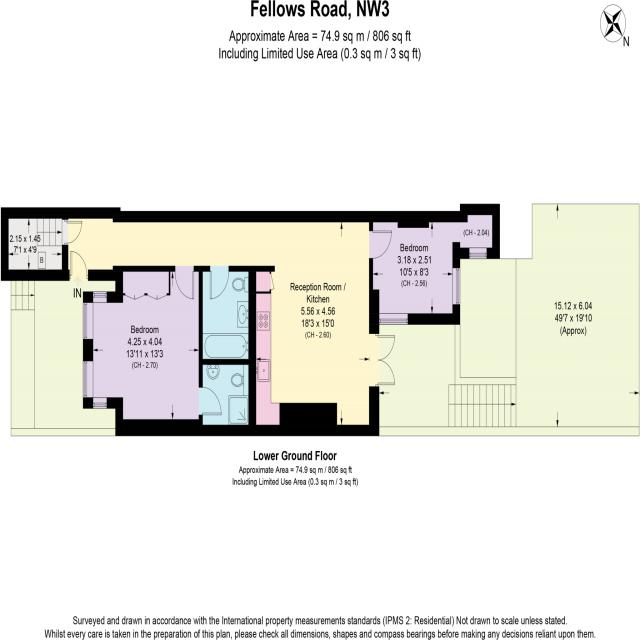DOOR: (369, 332, 396, 388), (209, 265, 230, 300), (174, 265, 195, 300), (199, 385, 222, 416), (369, 230, 392, 260), (68, 251, 88, 281), (64, 218, 83, 245)
ROOM: (67, 208, 396, 437), (83, 265, 222, 437), (369, 204, 500, 325)
WINDOW: (82, 301, 94, 340), (83, 359, 94, 398), (379, 312, 409, 326), (452, 267, 461, 306), (468, 247, 488, 260), (92, 397, 108, 410), (92, 291, 108, 303)
